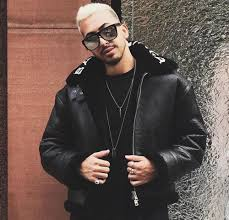middle_eastern_male: (78, 1, 129, 67)
